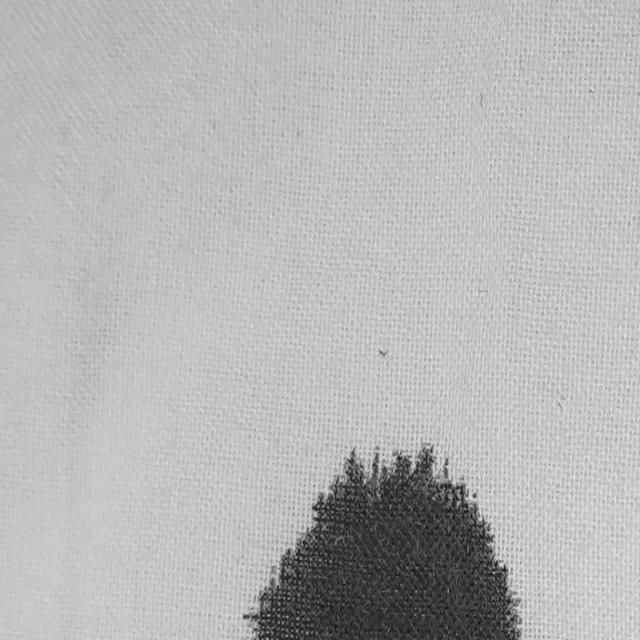Stain: (249, 439, 523, 640)
